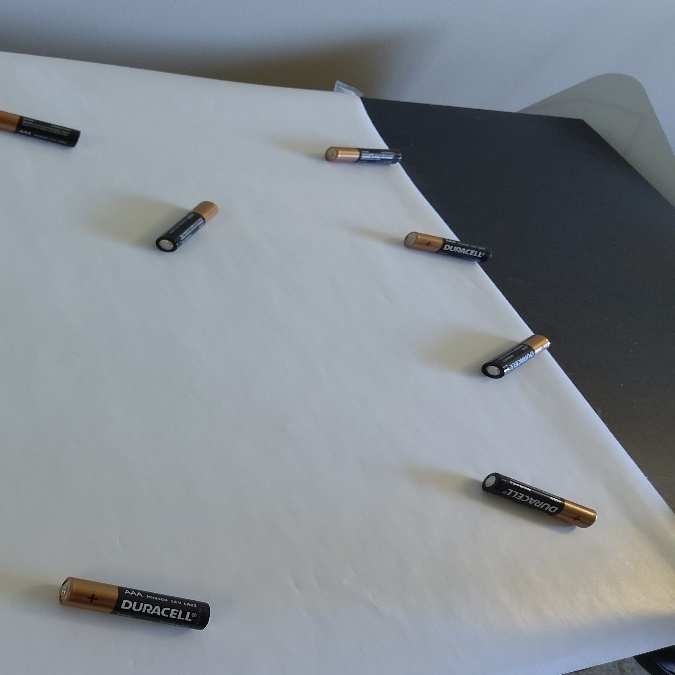battery: (52, 563, 219, 642), (479, 468, 613, 543), (151, 191, 236, 257), (479, 316, 555, 386), (401, 232, 499, 274), (319, 133, 403, 178)
